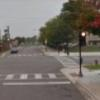crosswalks: (0, 73, 70, 85)
